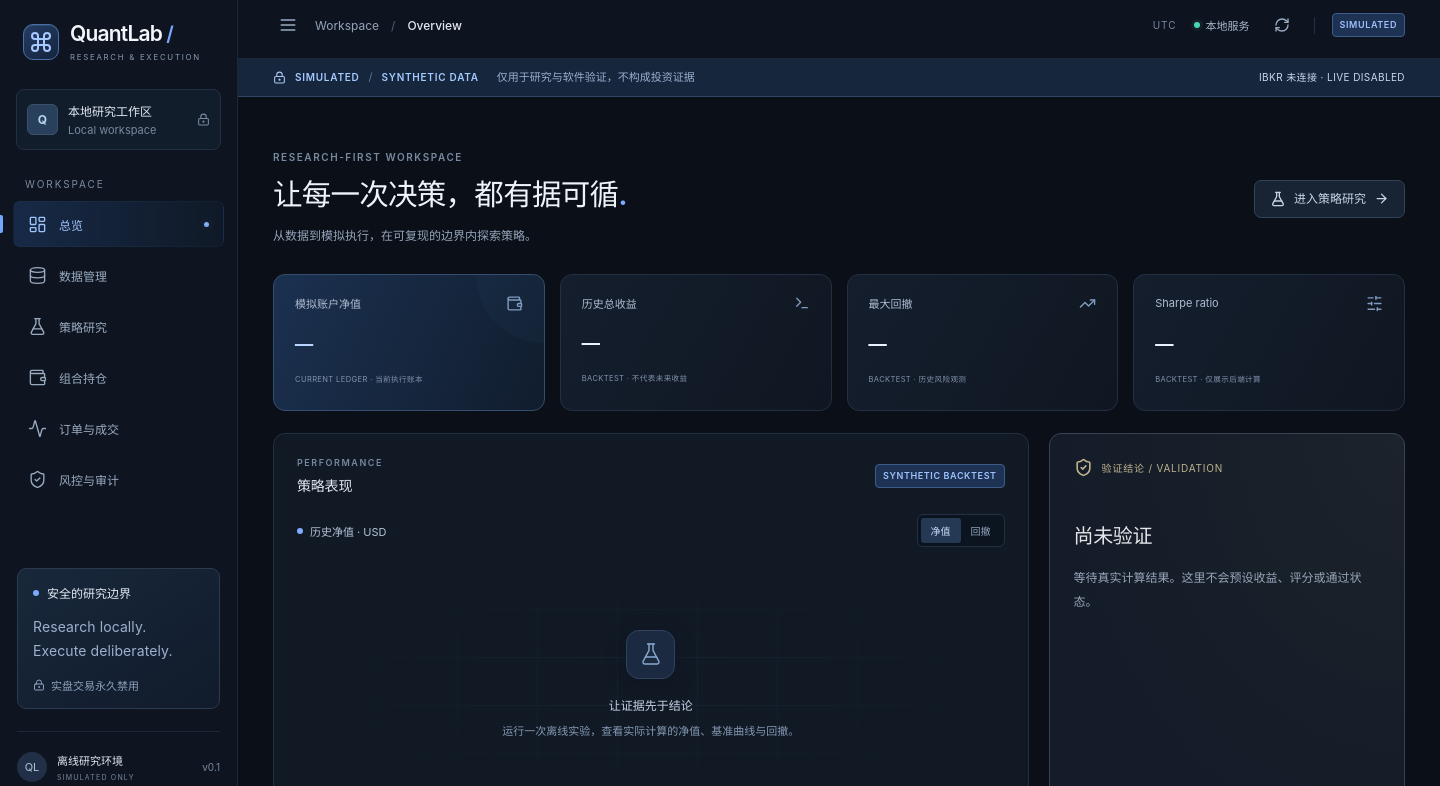
Test case: local console and honest state › shows all six navigation pages, permanent safety labels, and no fabricated metrics
Check: the text "SYNTHETIC DATA" is shown, box [382, 69, 479, 86]
Check: the text "IBKR 未连接 · LIVE DISABLED" is shown, box [1259, 69, 1405, 86]
Click the button "数据管理": (118, 275) [13, 252, 224, 298]
(page scrolled)
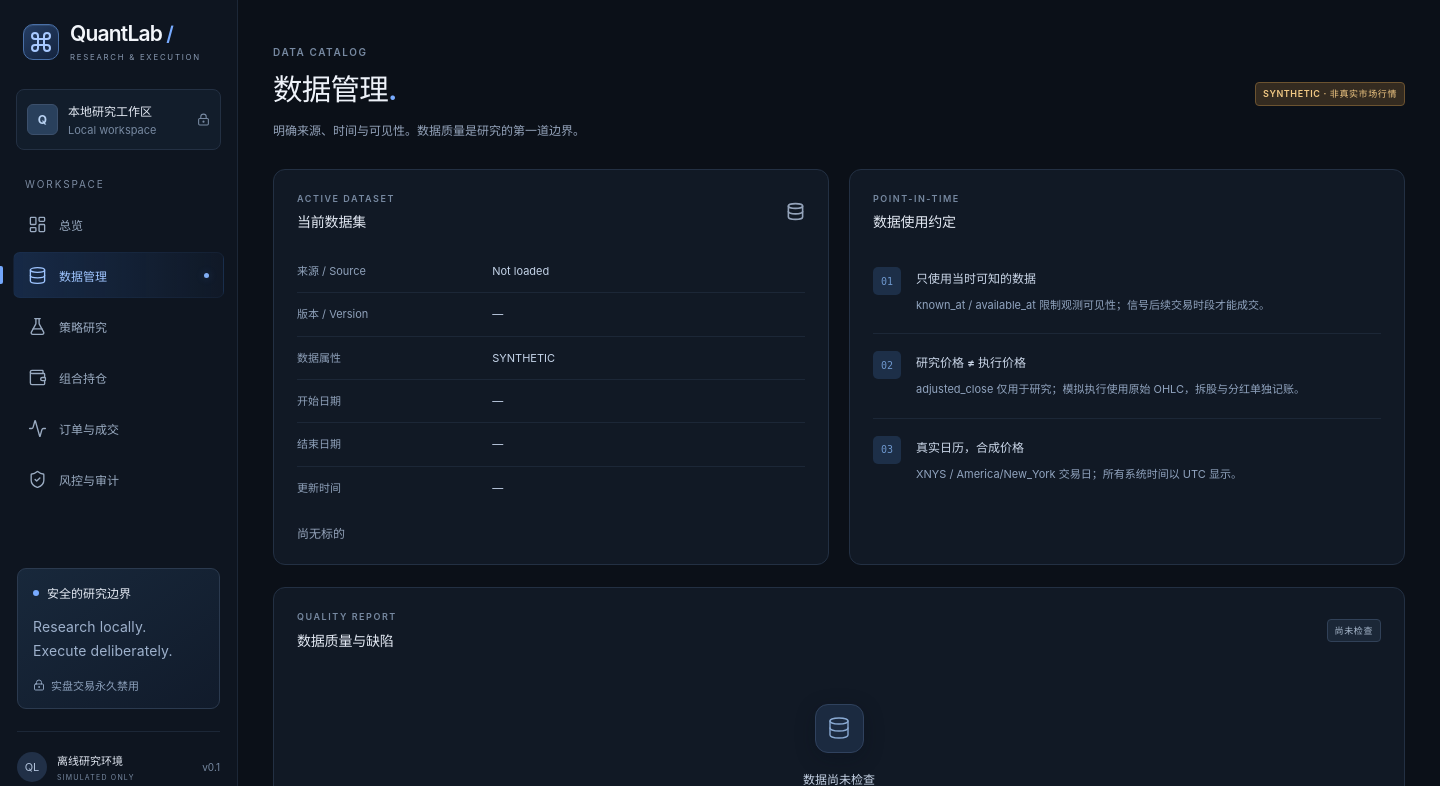
Check: the heading "数据管理." is shown, box [273, 71, 397, 107]
Click the button "策略研究": (118, 326) [13, 303, 224, 349]
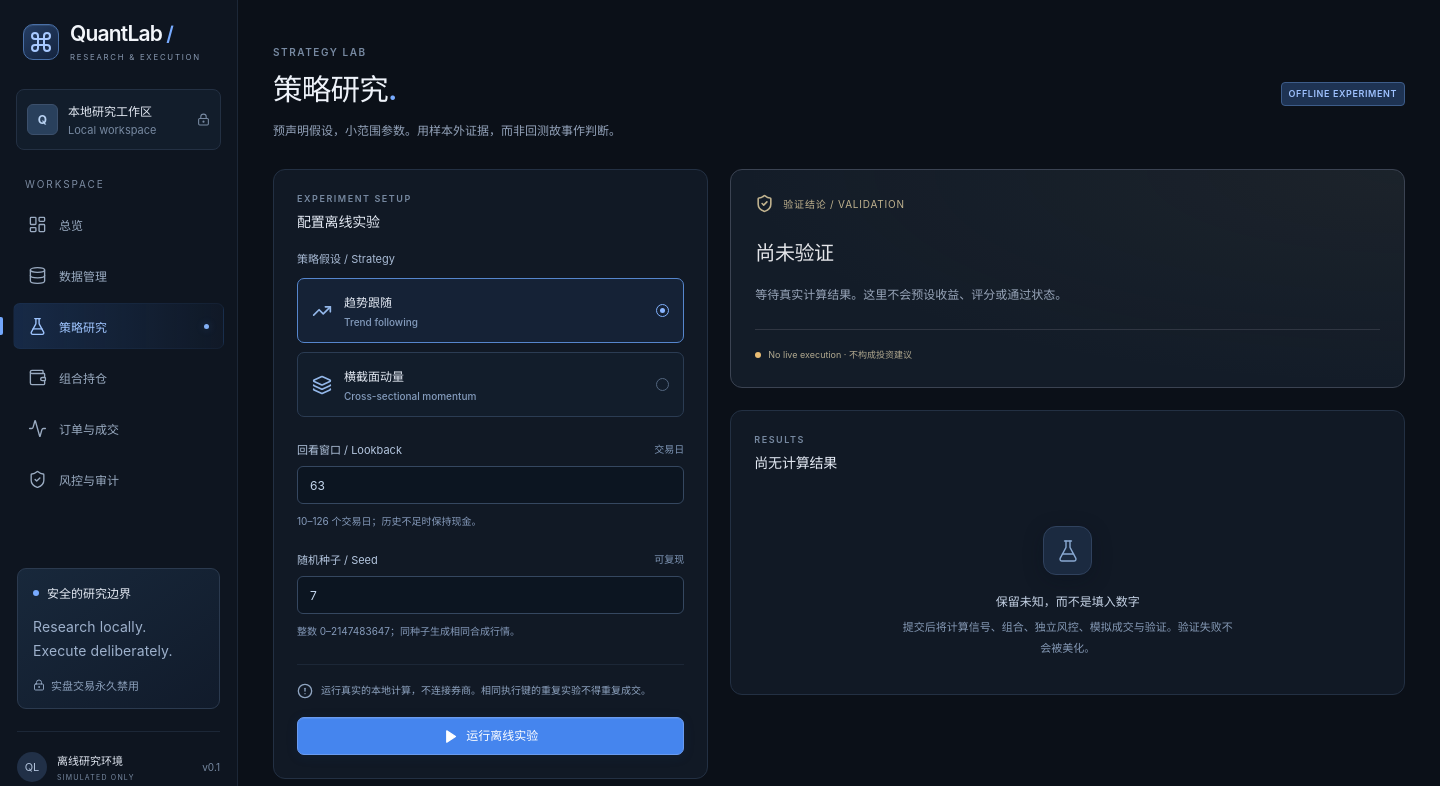
Check: the heading "策略研究." is shown, box [273, 71, 397, 107]
Click the button "组合持仓": (118, 377) [13, 354, 224, 400]
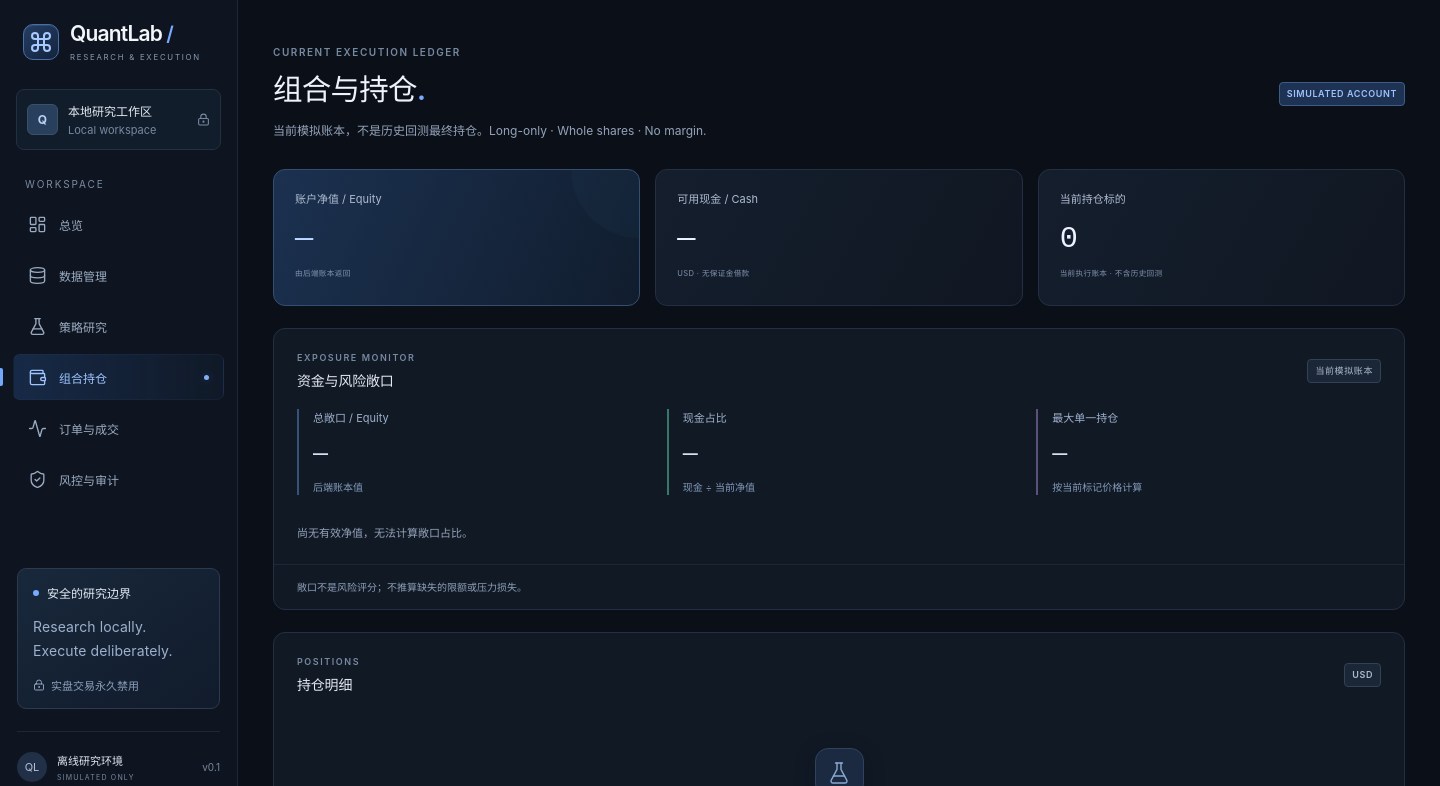
Check: the heading "组合与持仓." is shown, box [273, 71, 426, 107]
Click the button "订单与成交": (118, 428) [13, 405, 224, 451]
(page scrolled)
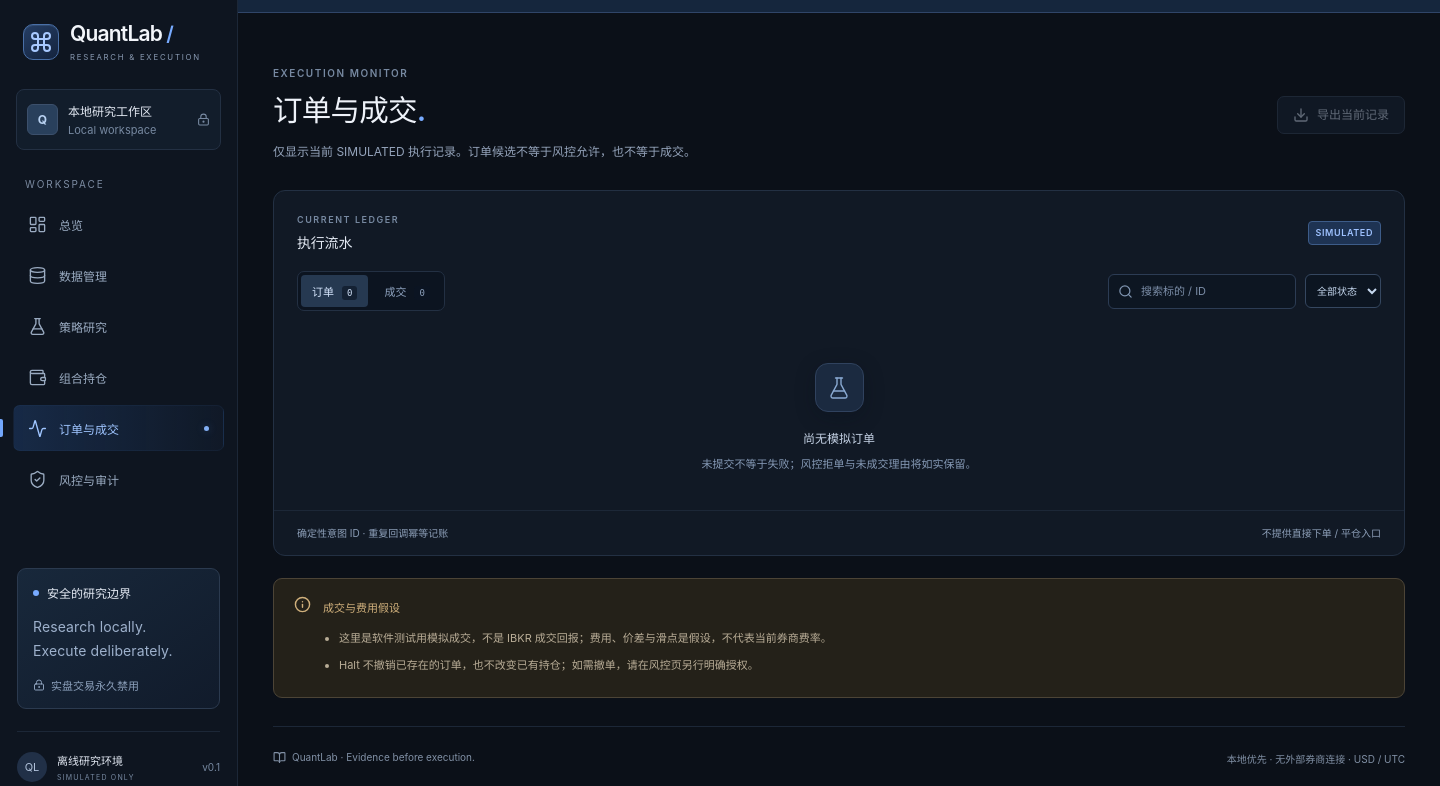
Check: the heading "订单与成交." is shown, box [273, 92, 426, 128]
Click the button "风控与审计": (118, 479) [13, 456, 224, 502]
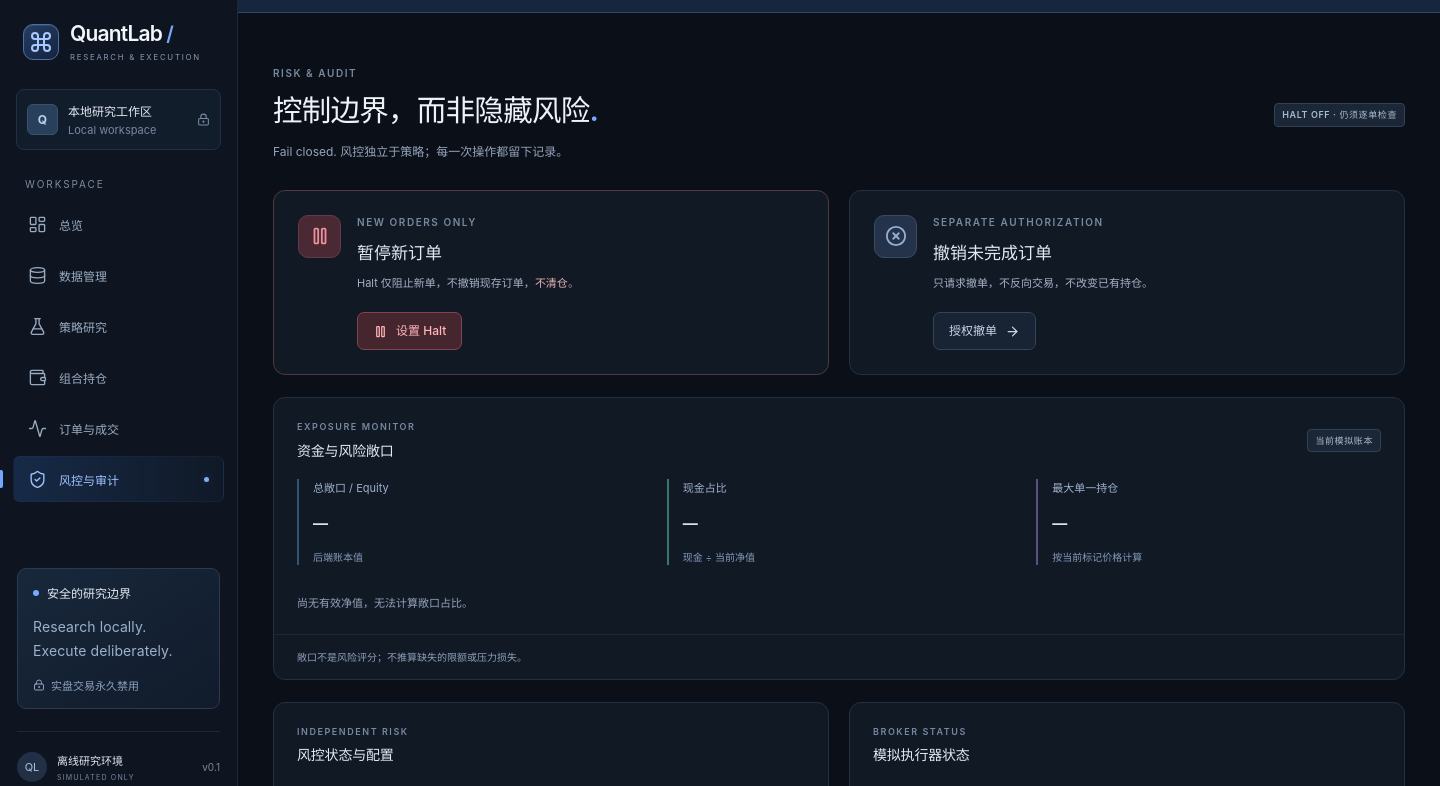
Check: the heading "控制边界，而非隐藏风险." is shown, box [273, 90, 598, 131]
